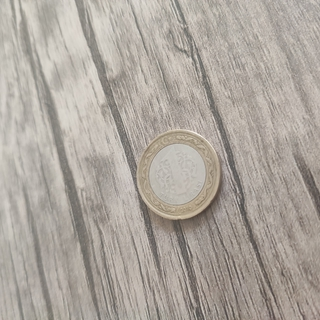1TL: (135, 127, 222, 220)
